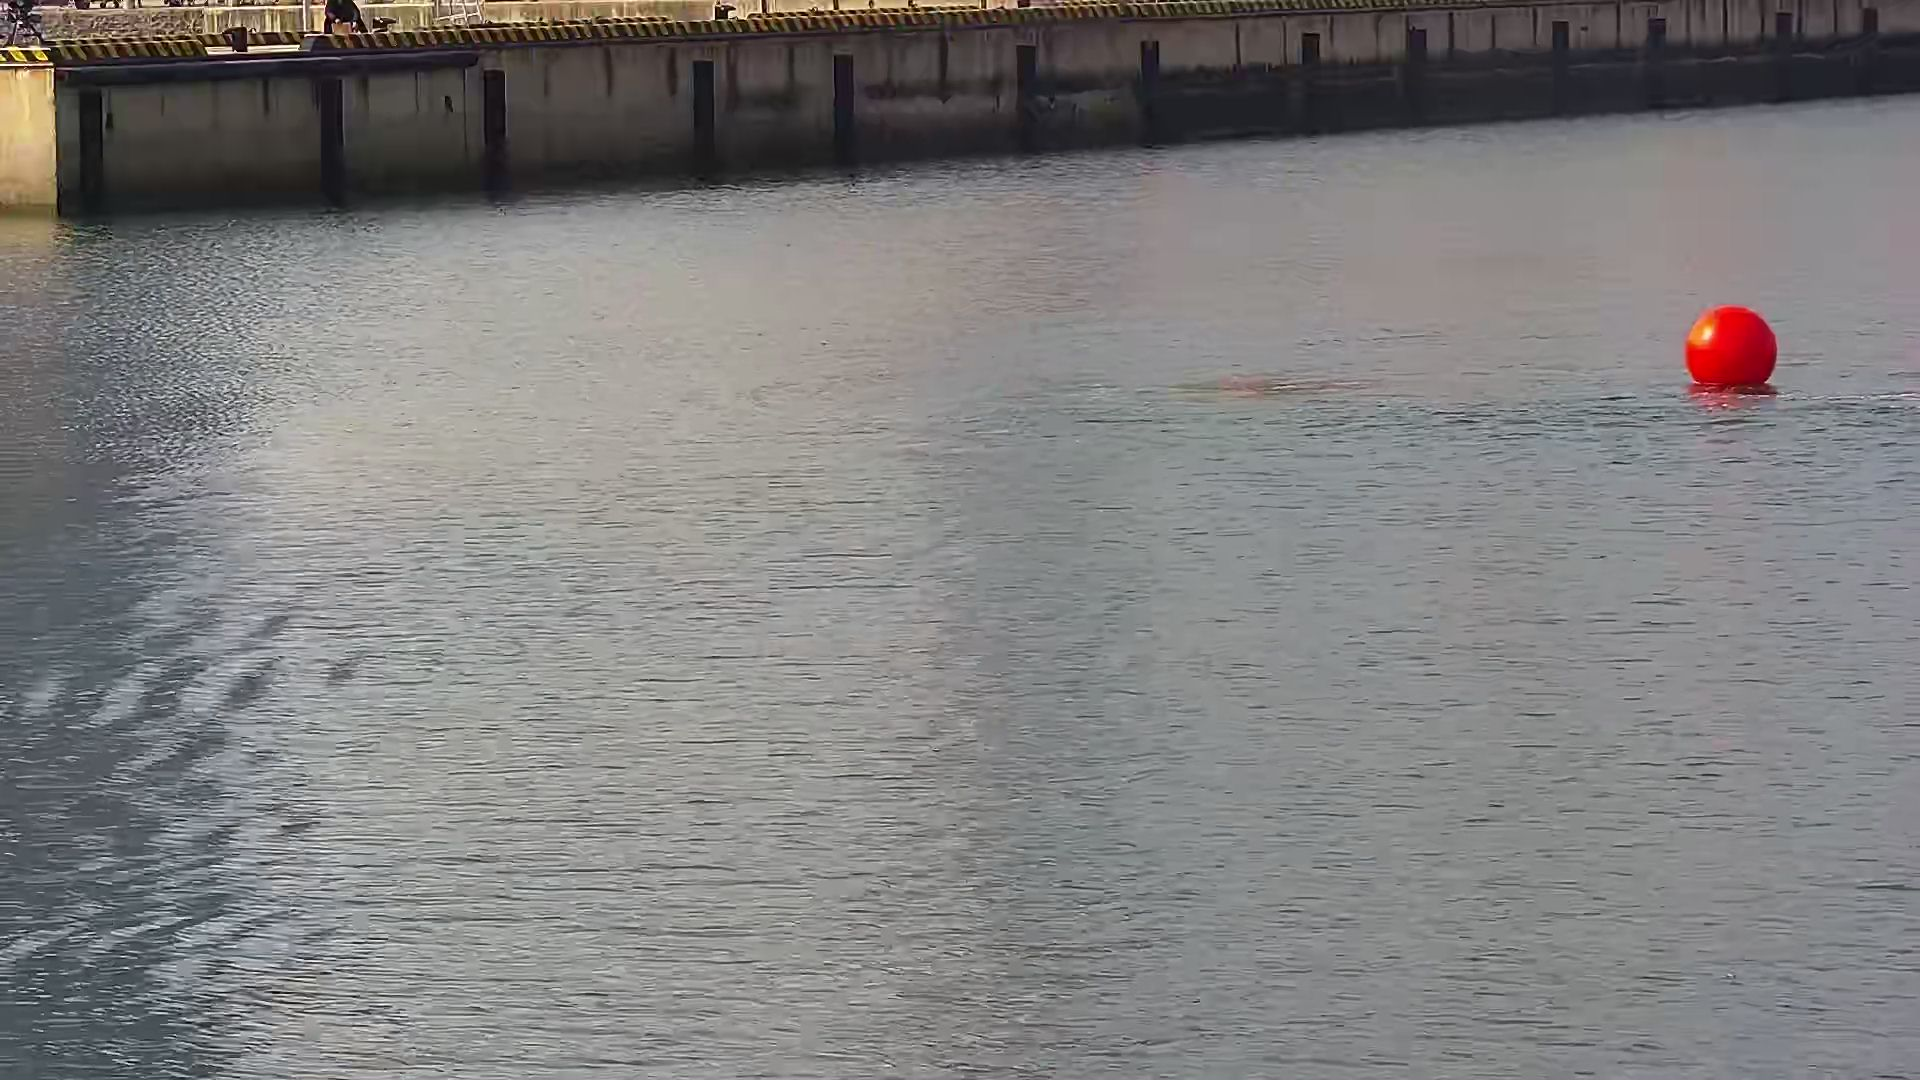ball: (1687, 303, 1776, 392)
